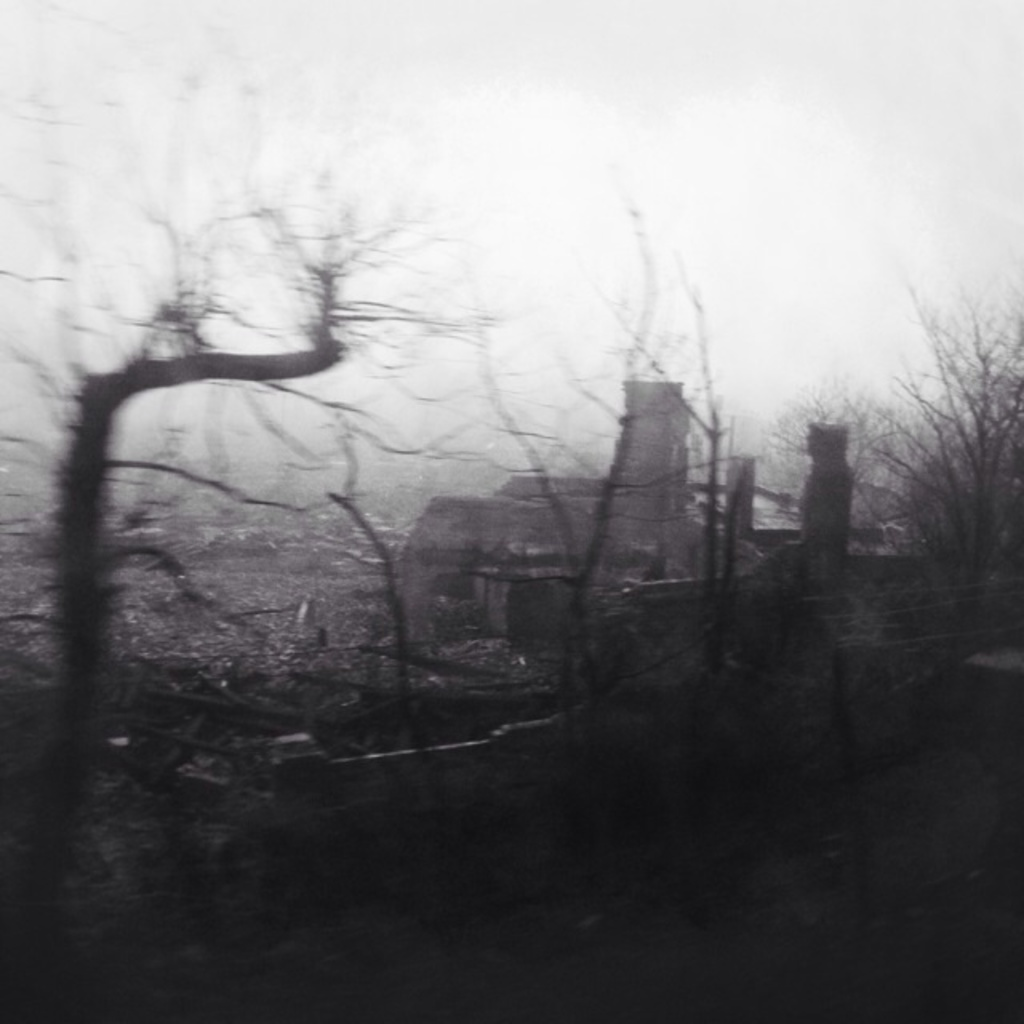Tree: (0, 129, 422, 792), (772, 263, 1022, 713)
